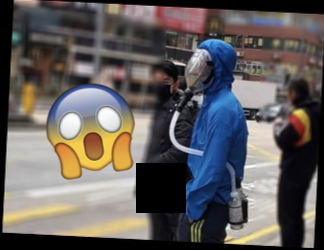with_mask: (183, 57, 210, 93), (149, 74, 174, 103)
